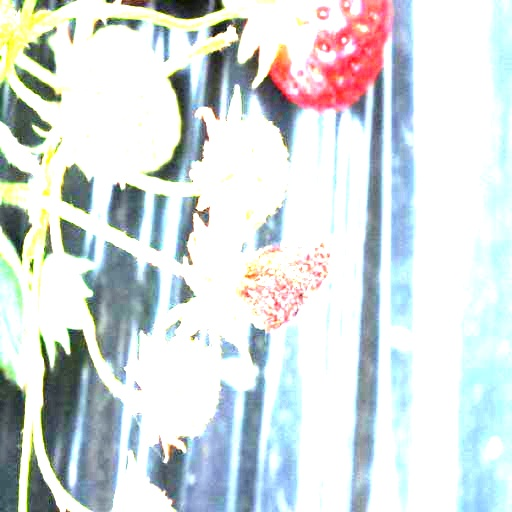Gray Mold: (175, 215, 334, 362)
